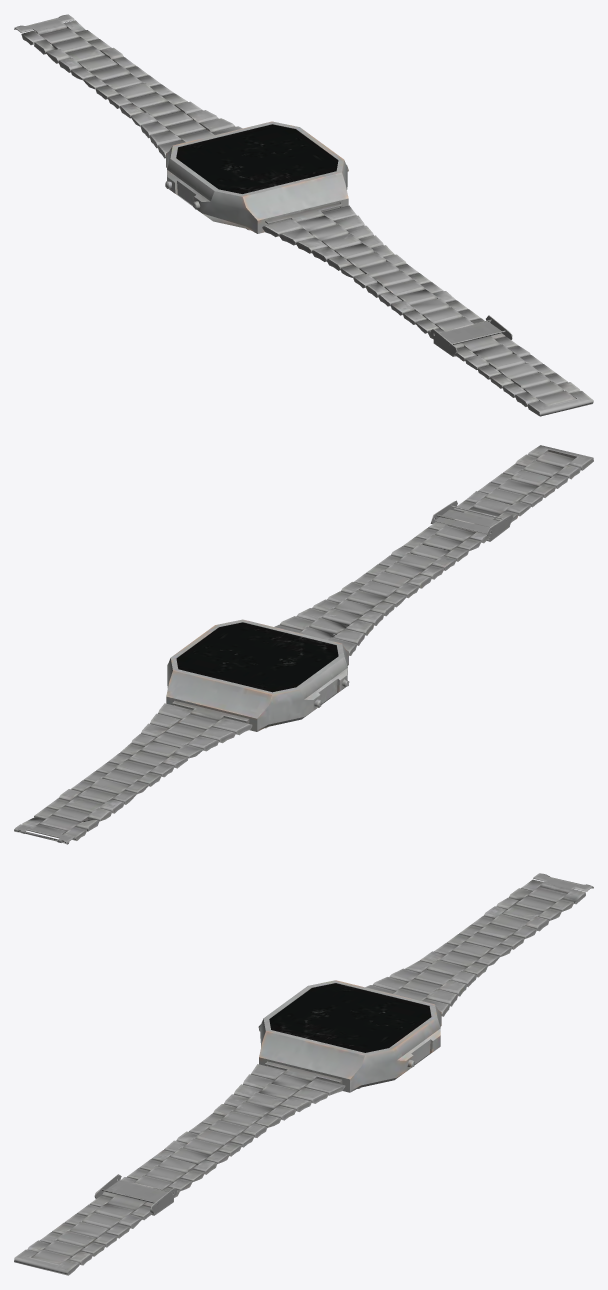
The model's file is digital_wrist_watch.glb.
3 renders of one model, top to bottom at view 1: azimuth 30°, elevation 25°; view 2: azimuth 150°, elevation 25°; view 3: azimuth 330°, elevation 25°, orthographic.
Visible parts, largest first — view 1: digital_wrist_watch; view 2: digital_wrist_watch; view 3: digital_wrist_watch.
Part boxes in pixels (box(x1,y1,x2,y2)): digital_wrist_watch: box(14, 14, 593, 416); digital_wrist_watch: box(14, 445, 593, 844); digital_wrist_watch: box(14, 873, 593, 1275).
Bounding box in the file's own units: 0.0365 × 0.00835 × 0.2172.
Materials: 2 (2 with a texture image).
